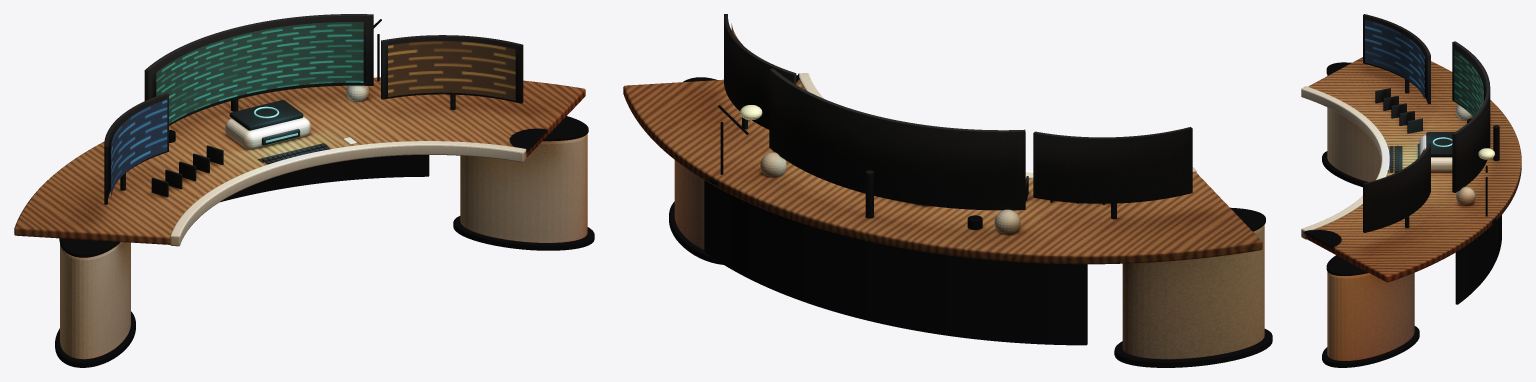
Rendered from consola.glb.
The picture shows the model from 3 angles, left to right: view 1: azimuth 30°, elevation 25°; view 2: azimuth 150°, elevation 25°; view 3: azimuth 270°, elevation 25°; orthographic projection. The views are drawn at different scales.
Visible parts, largest first — view 1: Consola; view 2: Consola; view 3: Consola.
Boxes of the visible parts, bbox=[...] form: Consola: bbox=[14, 14, 594, 367]; Consola: bbox=[623, 14, 1272, 367]; Consola: bbox=[1301, 14, 1521, 367].
Size of the model in its own units: 3.93 by 1.36 by 1.57.
1 material, 1 textured.
